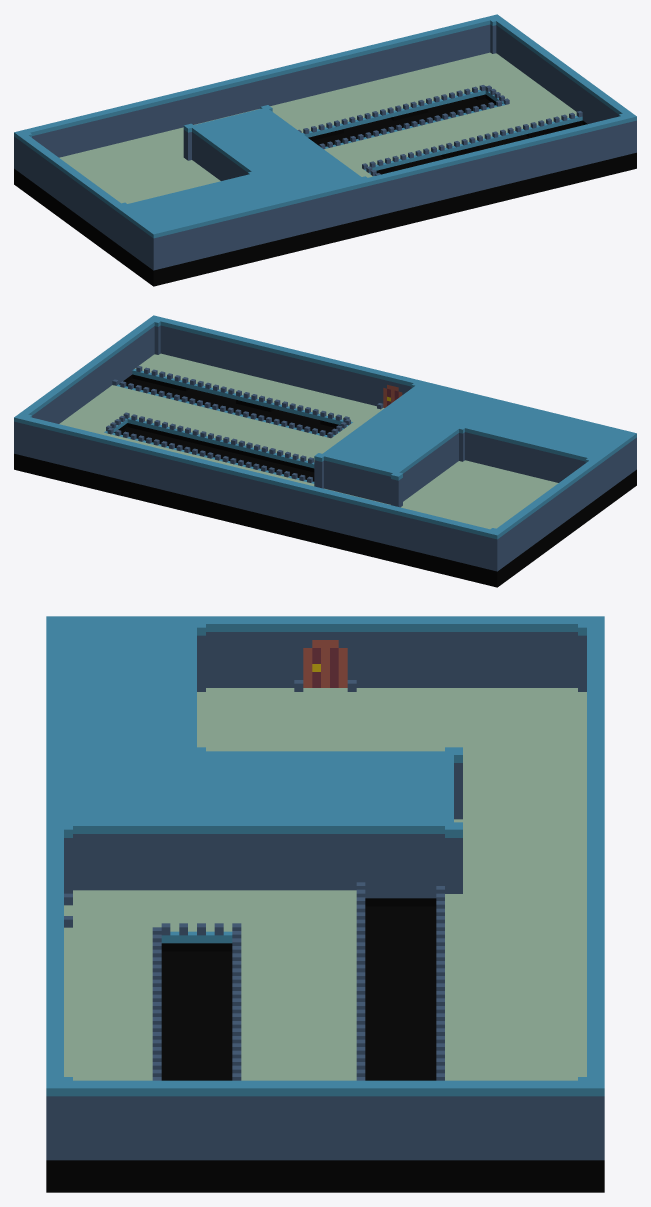
The model's file is hab1.3.obj.
The picture shows the model from 3 angles, top to bottom: view 1: azimuth 30°, elevation 25°; view 2: azimuth 150°, elevation 25°; view 3: azimuth 270°, elevation 25°; orthographic projection. The views are drawn at different scales.
Size of the model in its own units: 126 by 13 by 63.
1 material, 1 textured.
